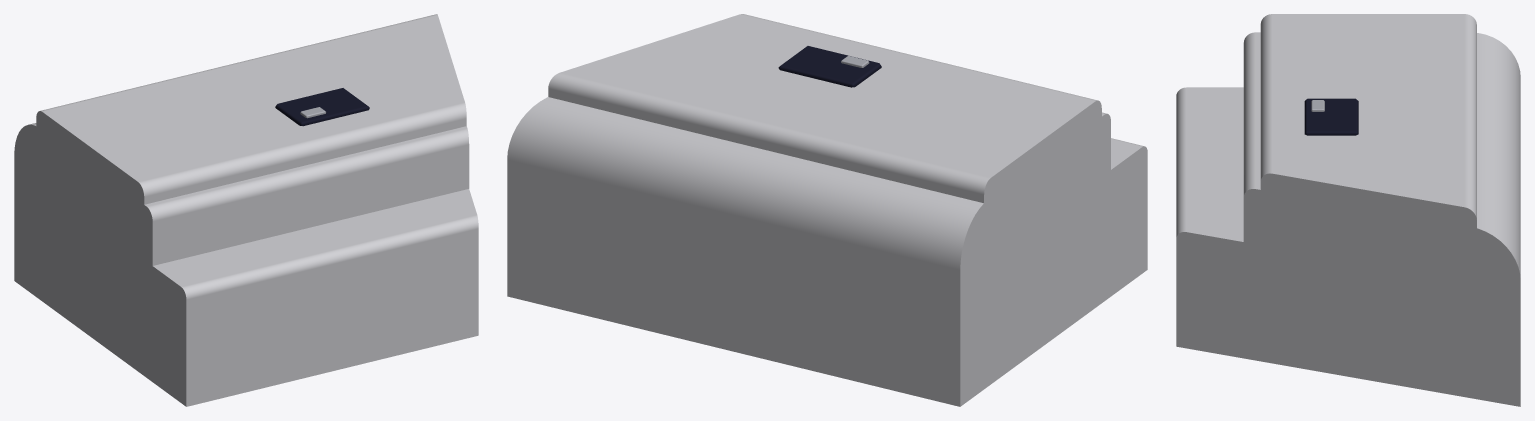
Rendered from roof.shoulder.slope1.vent.s1.c0_22.5.glb.
The picture shows the model from 3 angles, left to right: view 1: azimuth 30°, elevation 25°; view 2: azimuth 150°, elevation 25°; view 3: azimuth 270°, elevation 25°; orthographic projection. The views are drawn at different scales.
Visible parts, largest first — view 1: roof.shoulder.slope1.vent.s1.c0_22.5; view 2: roof.shoulder.slope1.vent.s1.c0_22.5; view 3: roof.shoulder.slope1.vent.s1.c0_22.5.
Boxes of the visible parts, box(x1,y1,x2,y2) form: roof.shoulder.slope1.vent.s1.c0_22.5: box(14, 14, 478, 406); roof.shoulder.slope1.vent.s1.c0_22.5: box(507, 14, 1147, 406); roof.shoulder.slope1.vent.s1.c0_22.5: box(1176, 14, 1520, 406).
Size of the model in its own units: 1.42 by 0.64 by 1.02.
